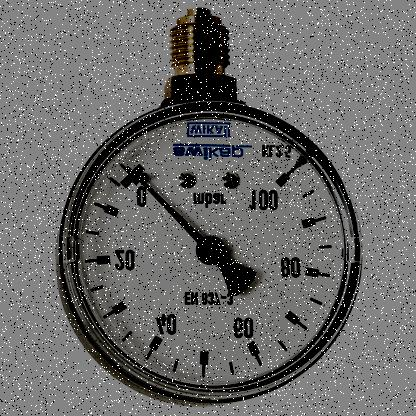needle: (126, 164, 206, 245)
